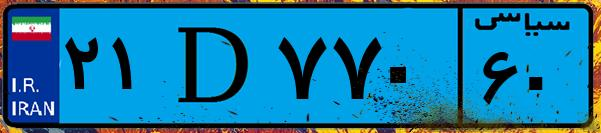0: (385, 28, 445, 110), (525, 38, 570, 115)
1: (110, 28, 158, 98)
2: (57, 26, 110, 100)
6: (475, 38, 525, 113)
7: (270, 28, 330, 110), (330, 28, 385, 110)
D: (158, 12, 270, 120)
